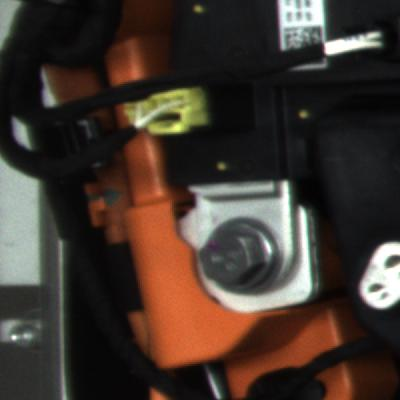nut_b: (174, 209, 298, 298)
